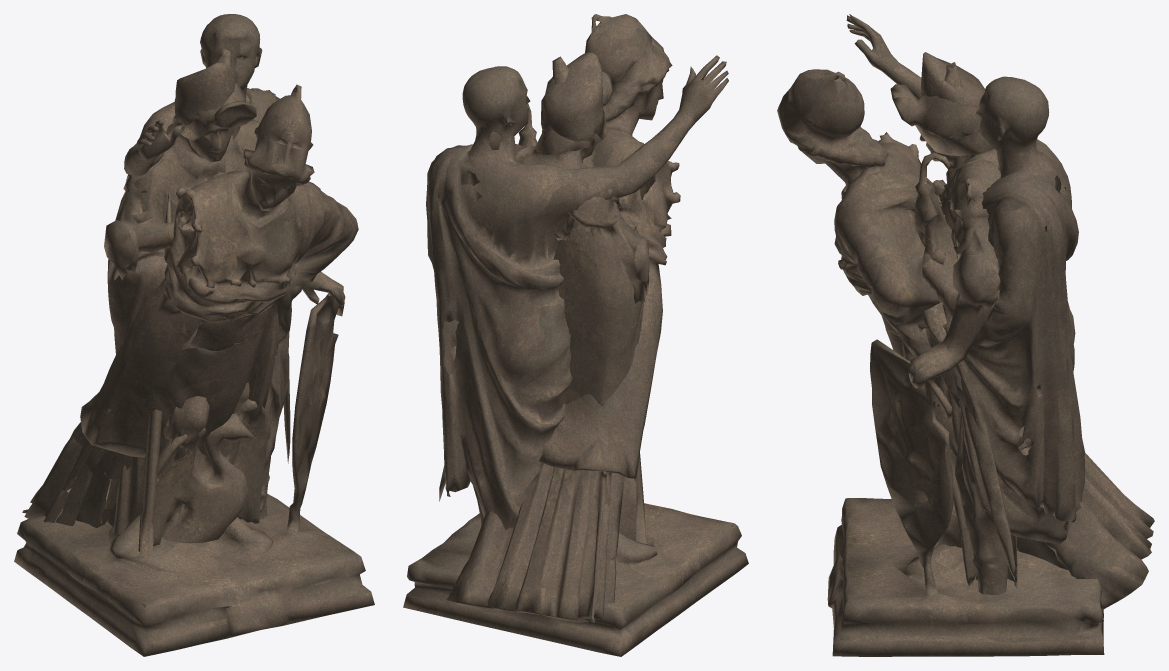
File: rzezby.glb
3 views of the same model, side by side, from view 1: azimuth 30°, elevation 25°; view 2: azimuth 150°, elevation 25°; view 3: azimuth 270°, elevation 25° (orthographic). The views are drawn at different scales.
Visible parts, largest first — view 1: rz_theodoric-the-great, rz_athena, rz_saint-hughs, rz_aule; view 2: rz_aule, rz_athena, rz_theodoric-the-great, rz_saint-hughs; view 3: rz_theodoric-the-great, rz_aule, rz_athena, rz_saint-hughs.
Boxes of the visible parts, bbox=[...] form: rz_theodoric-the-great: bbox=[14, 48, 374, 656]; rz_athena: bbox=[22, 84, 358, 527]; rz_saint-hughs: bbox=[107, 63, 291, 551]; rz_aule: bbox=[124, 14, 289, 519]; rz_aule: bbox=[426, 55, 728, 529]; rz_athena: bbox=[447, 14, 680, 622]; rz_theodoric-the-great: bbox=[403, 56, 748, 656]; rz_saint-hughs: bbox=[518, 52, 643, 541]; rz_theodoric-the-great: bbox=[827, 62, 1104, 656]; rz_aule: bbox=[846, 14, 1085, 594]; rz_athena: bbox=[777, 69, 1154, 610]; rz_saint-hughs: bbox=[914, 52, 1017, 587].
Bounding box in the file's own units: 1.25 × 2.5 × 1.56.
Materials: 1 (1 with a texture image).
